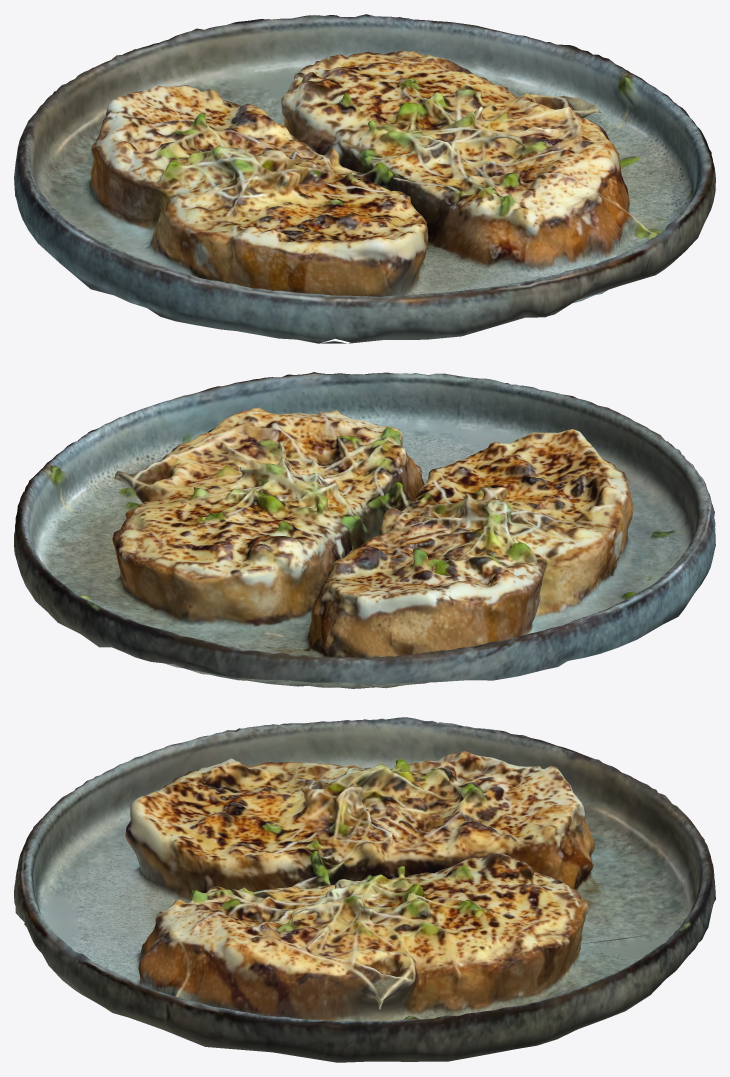
Rendered from tartine-chevre-miel.glb.
3 renders of one model, top to bottom at view 1: azimuth 30°, elevation 25°; view 2: azimuth 150°, elevation 25°; view 3: azimuth 270°, elevation 25°, orthographic.
Parts seen in each view (by area): view 1: /ObjectCapture/Geometry/Mesh; view 2: /ObjectCapture/Geometry/Mesh; view 3: /ObjectCapture/Geometry/Mesh.
Part boxes in pixels (bbox=[...]): /ObjectCapture/Geometry/Mesh: bbox=[14, 14, 715, 343]; /ObjectCapture/Geometry/Mesh: bbox=[14, 372, 715, 688]; /ObjectCapture/Geometry/Mesh: bbox=[14, 717, 715, 1062].
Bounding box in the file's own units: 0.2071 × 0.0325 × 0.207.
1 material, 1 textured.
